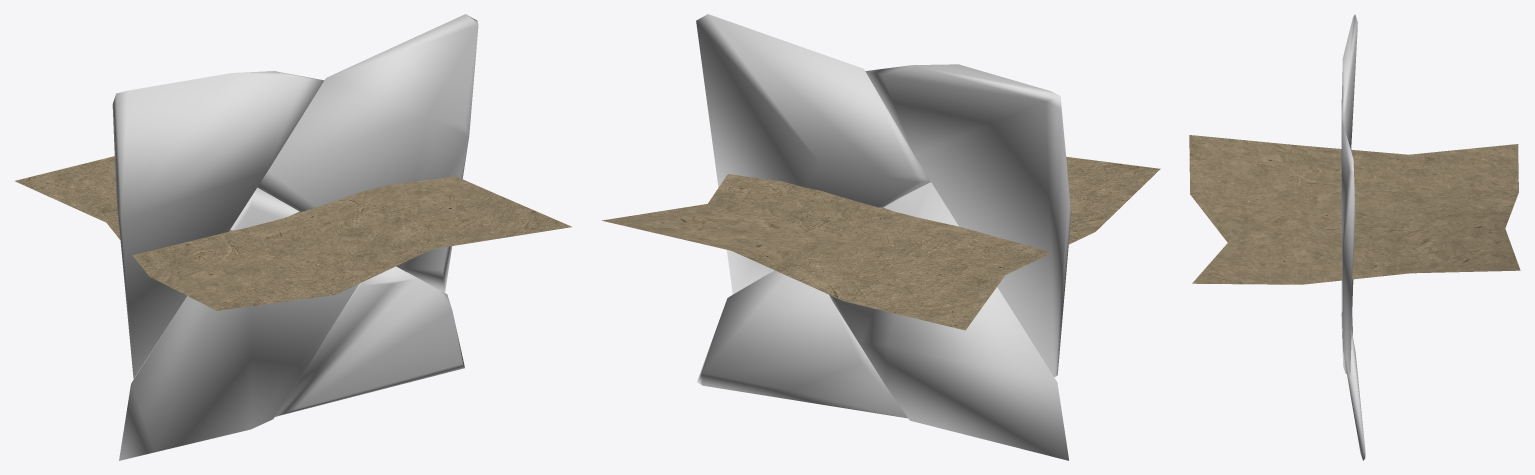
The model's file is SM_Poster_02.fbx.
The picture shows the model from 3 angles, left to right: view 1: azimuth 30°, elevation 25°; view 2: azimuth 150°, elevation 25°; view 3: azimuth 270°, elevation 25°; orthographic projection. The views are drawn at different scales.
Parts seen in each view (by area): view 1: SM_Poster_02_ConvexHulls, SM_Poster_02; view 2: SM_Poster_02_ConvexHulls, SM_Poster_02; view 3: SM_Poster_02, SM_Poster_02_ConvexHulls.
Part boxes in pixels (x1=…): SM_Poster_02_ConvexHulls: x1=112, y1=14, x2=478, y2=460; SM_Poster_02: x1=15, y1=156, x2=571, y2=310; SM_Poster_02_ConvexHulls: x1=696, y1=14, x2=1071, y2=460; SM_Poster_02: x1=602, y1=157, x2=1160, y2=330; SM_Poster_02: x1=1189, y1=135, x2=1520, y2=284; SM_Poster_02_ConvexHulls: x1=1341, y1=14, x2=1365, y2=460.
Size of the model in its own units: 0.2652 by 0.2551 by 0.251.
